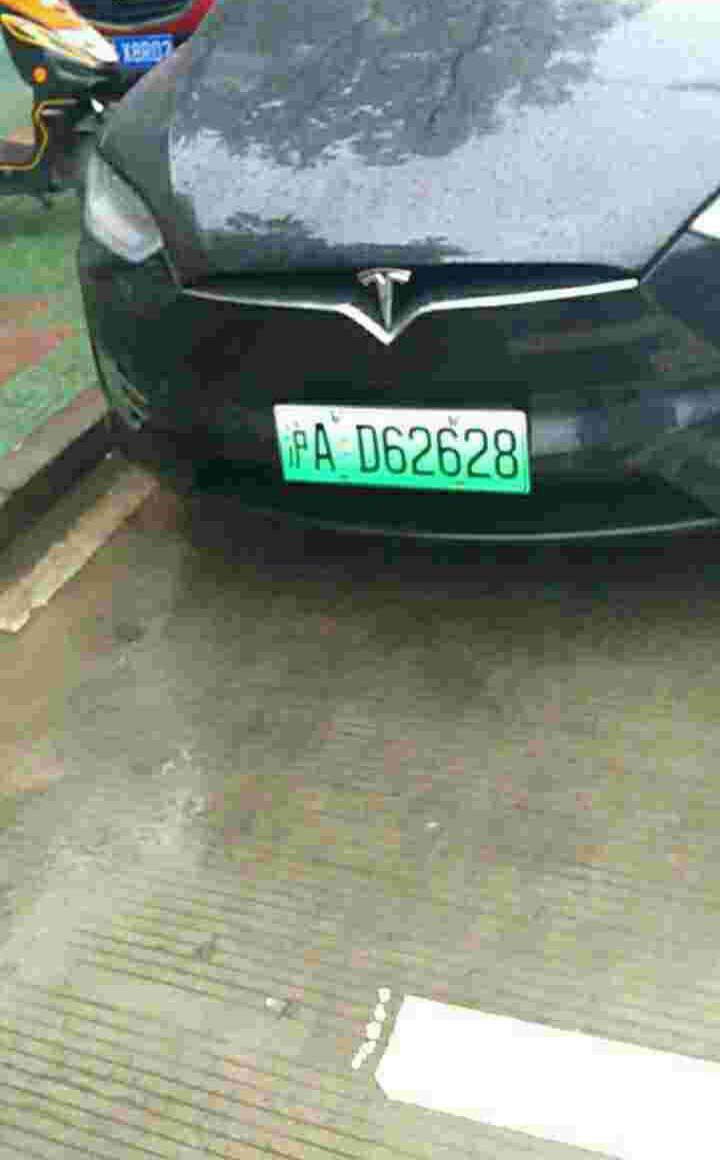car: (273, 409, 528, 492)
